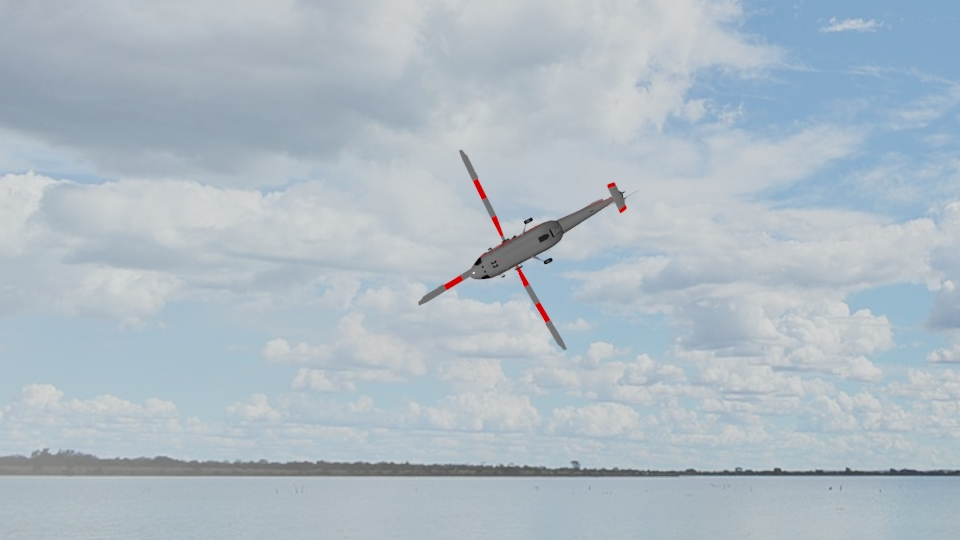heli: (417, 147, 632, 345)
